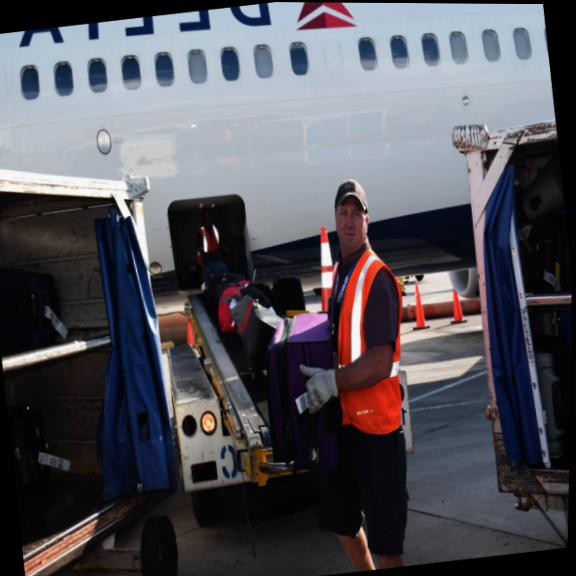safety_vest: (305, 249, 419, 440)
